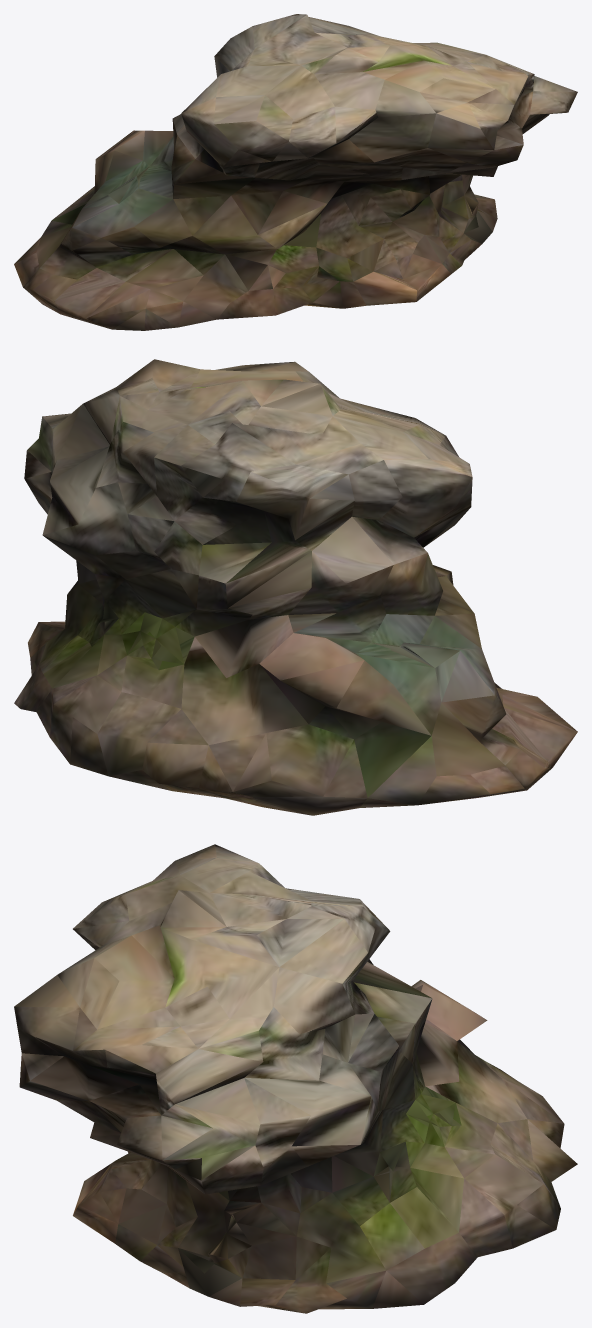
Rendered from fels-platte-1.glb.
3 renders of one model, top to bottom at view 1: azimuth 30°, elevation 25°; view 2: azimuth 150°, elevation 25°; view 3: azimuth 270°, elevation 25°, orthographic. The views are drawn at different scales.
Visible parts, largest first — view 1: Mesh_0; view 2: Mesh_0; view 3: Mesh_0.
Part boxes in pixels (bbox=[...]): Mesh_0: bbox=[14, 14, 577, 330]; Mesh_0: bbox=[14, 359, 577, 815]; Mesh_0: bbox=[14, 844, 577, 1313].
Size of the model in its own units: 1.99 by 0.9508 by 1.53.
1 material, 1 textured.
